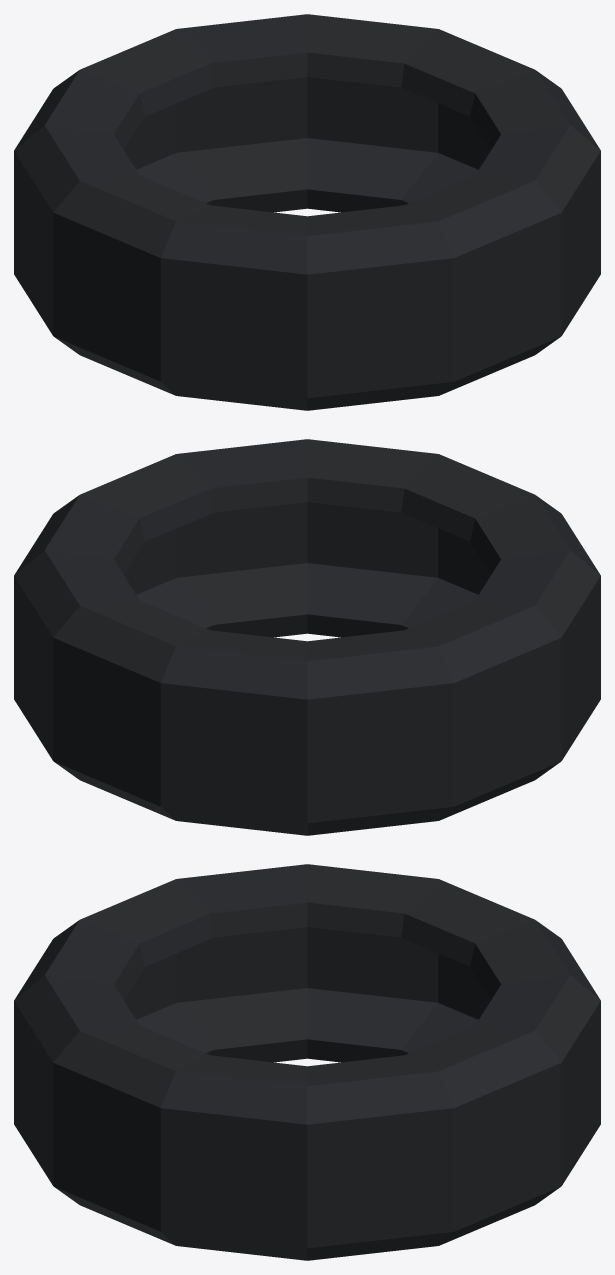
Rendered from tire.glb.
3 renders of one model, top to bottom at view 1: azimuth 30°, elevation 25°; view 2: azimuth 150°, elevation 25°; view 3: azimuth 270°, elevation 25°, orthographic.
Visible parts, largest first — view 1: SM_Prop_Tire_01; view 2: SM_Prop_Tire_01; view 3: SM_Prop_Tire_01.
Part boxes in pixels (x1=…): SM_Prop_Tire_01: x1=14, y1=14, x2=600, y2=410; SM_Prop_Tire_01: x1=14, y1=439, x2=600, y2=835; SM_Prop_Tire_01: x1=14, y1=864, x2=600, y2=1260.
Bounding box in the file's own units: 0.8258 × 0.271 × 0.8258.
Materials: 1 (1 with a texture image).
